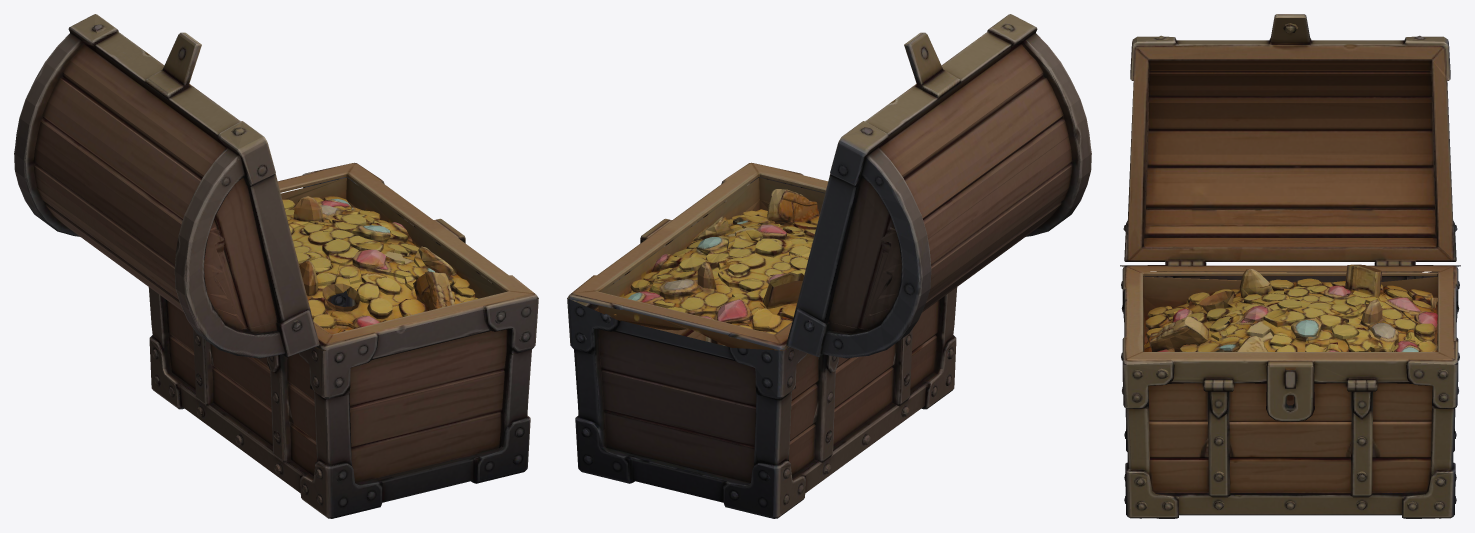
The model's file is Tesoros.glb.
3 renders of one model, left to right at view 1: azimuth 30°, elevation 25°; view 2: azimuth 150°, elevation 25°; view 3: azimuth 270°, elevation 25°, orthographic. The views are drawn at different scales.
Visible parts, largest first — view 1: tripo_node_9951c049-966e-4466-ac7d-2b270e4a3151; view 2: tripo_node_9951c049-966e-4466-ac7d-2b270e4a3151; view 3: tripo_node_9951c049-966e-4466-ac7d-2b270e4a3151.
Boxes of the visible parts, x1=… form: tripo_node_9951c049-966e-4466-ac7d-2b270e4a3151: x1=14, y1=14, x2=538, y2=518; tripo_node_9951c049-966e-4466-ac7d-2b270e4a3151: x1=567, y1=14, x2=1091, y2=518; tripo_node_9951c049-966e-4466-ac7d-2b270e4a3151: x1=1120, y1=14, x2=1460, y2=518.
Bounding box in the file's own units: 0.865 × 0.998 × 0.7808.
1 material, 1 textured.
